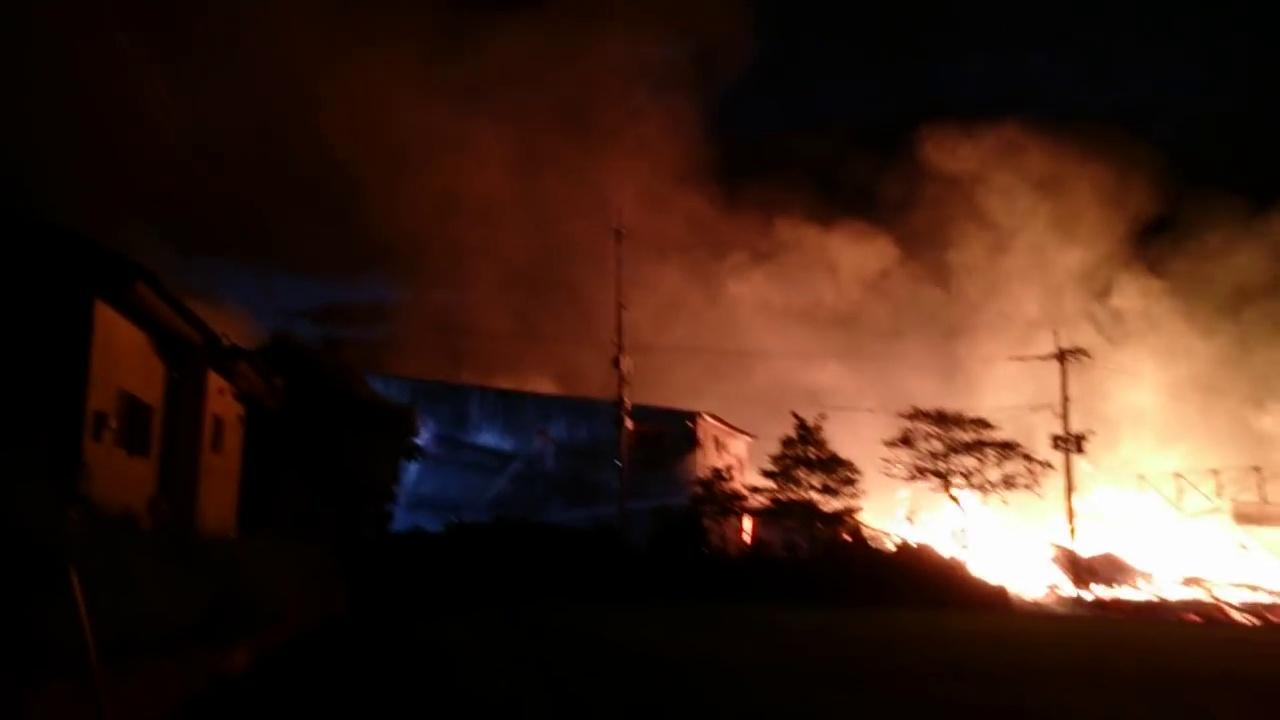fire: (906, 480, 1280, 608)
smoke: (703, 209, 1276, 470)
